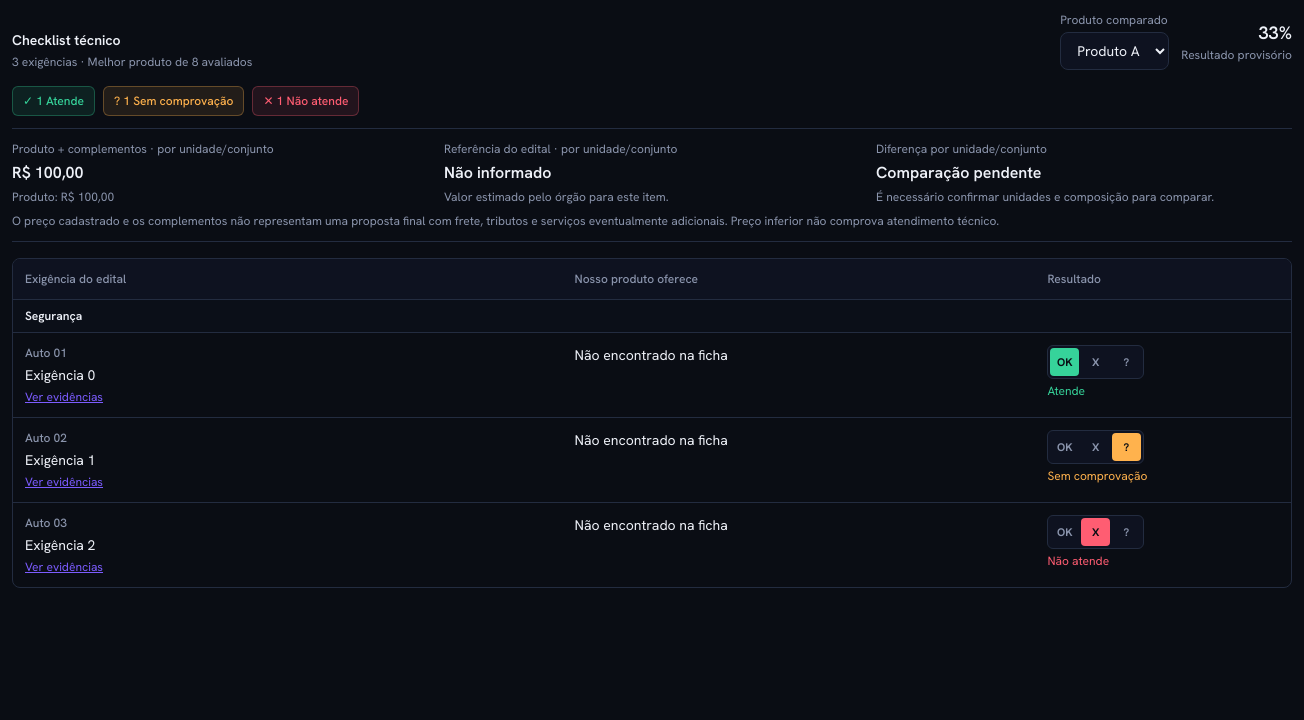
Test case: automatic checklist uses green yellow red results and filters without changing the evidence
Expected: the text "3 exigências · Melhor produto de 8 avaliados" is shown, [12, 54, 252, 70]
Click the button "✕ 1 Não atende": (306, 101) [252, 86, 359, 116]
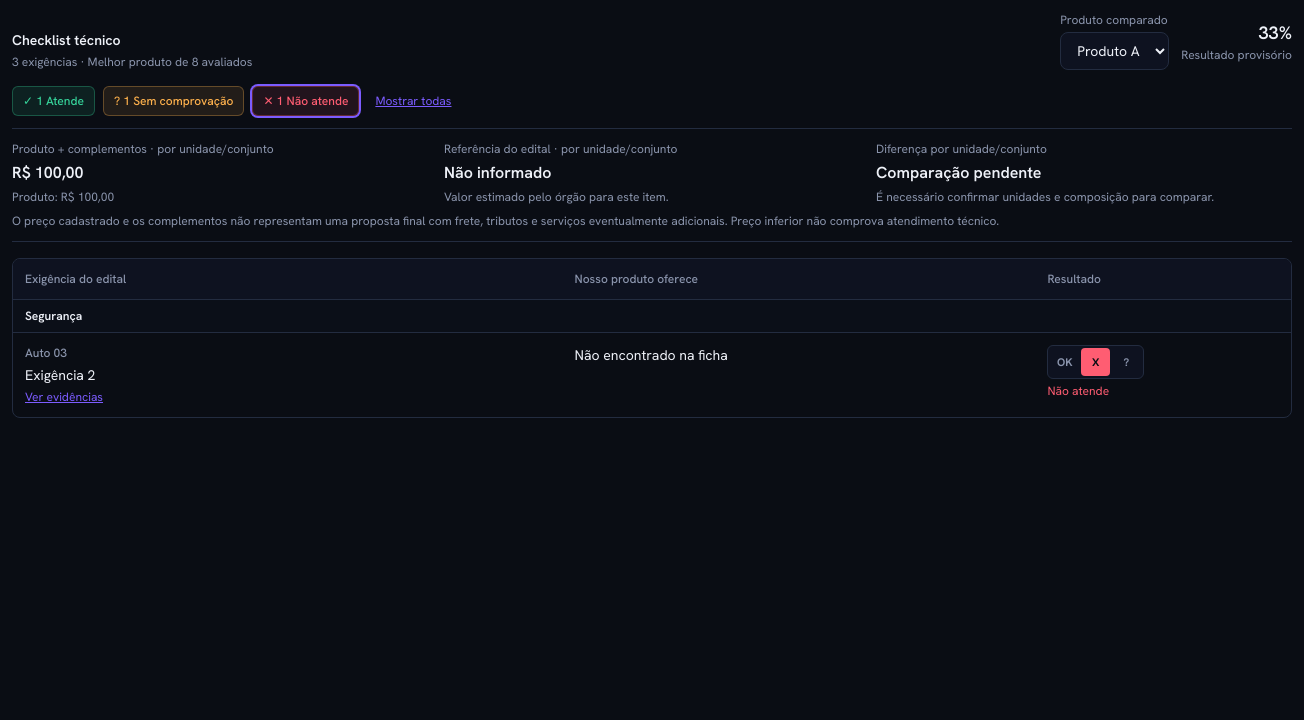
Expected: the text "Exigência 2" is shown, [25, 366, 95, 384]
Now the text "Exigência 0" is gone
Click the button "Mostrar todas": (413, 101) [367, 89, 460, 113]
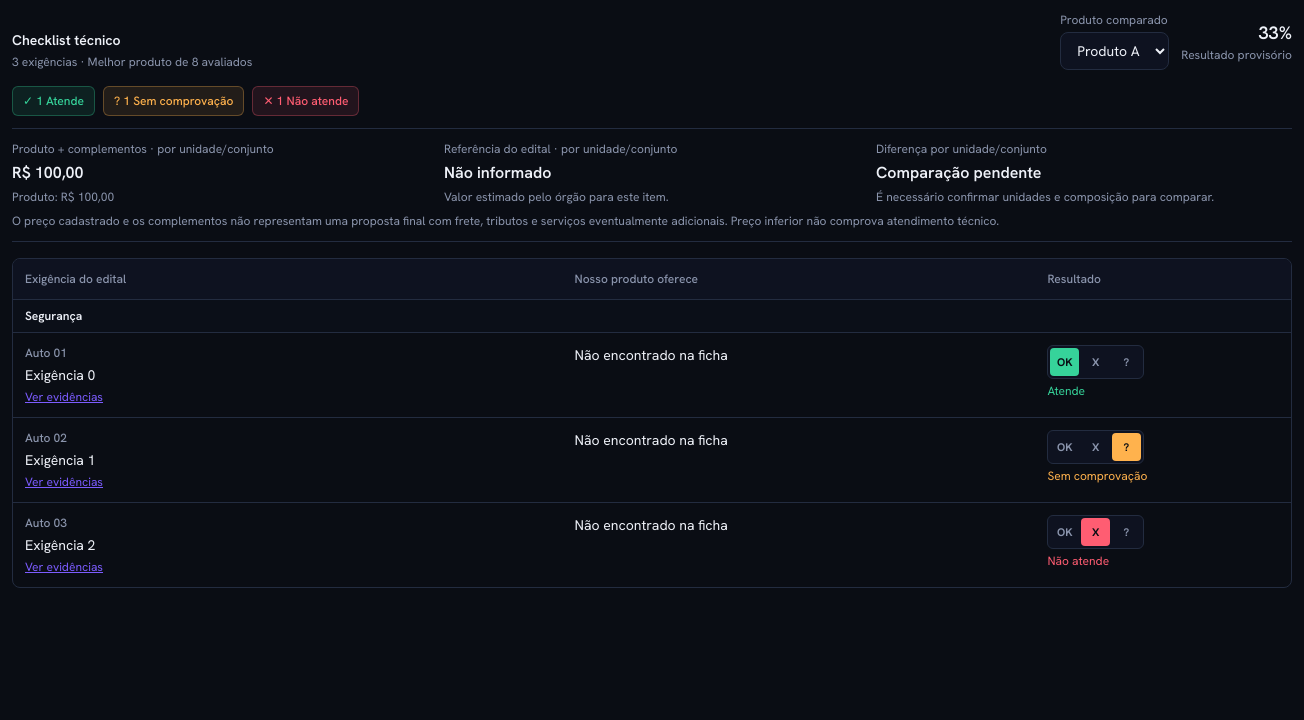
Now the text "Exigência 0" is shown, box [25, 366, 95, 384]
